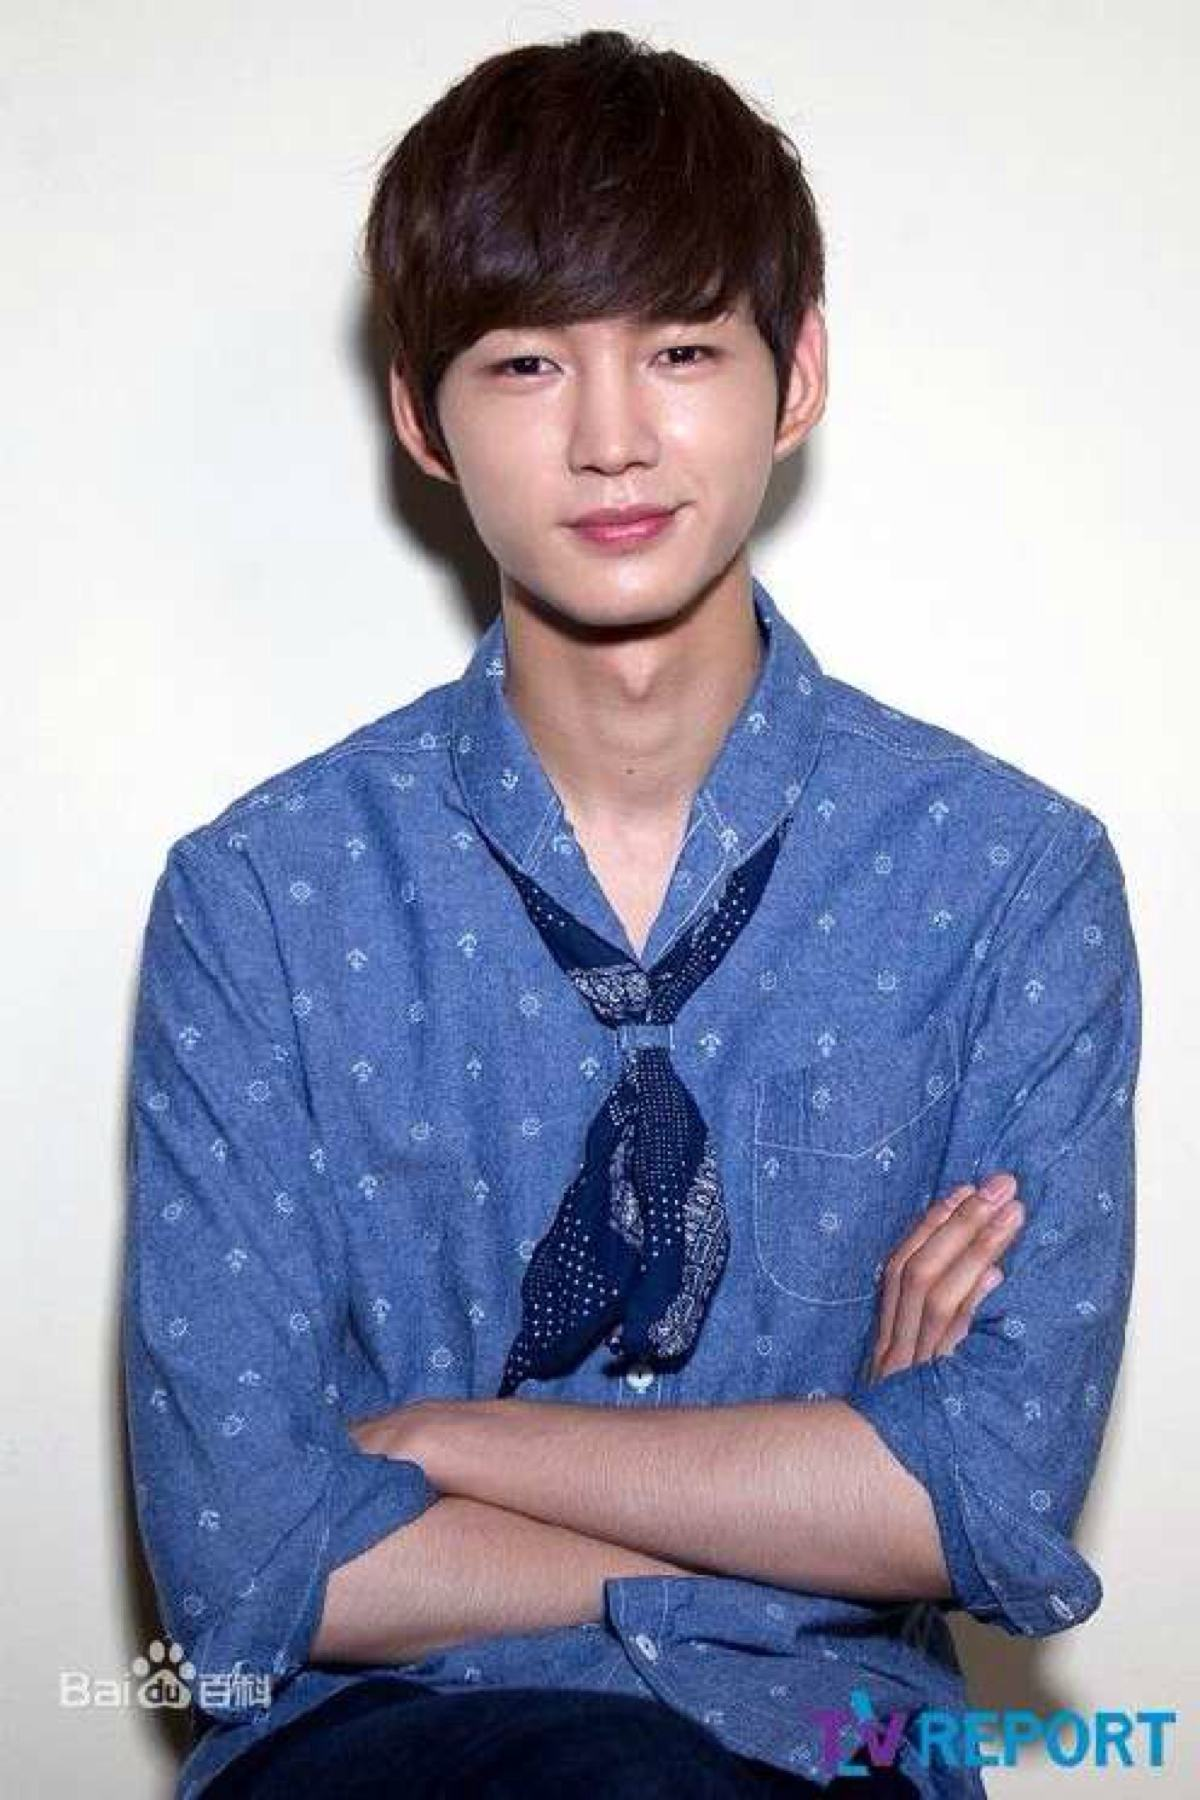person: (320, 59, 1112, 984)
